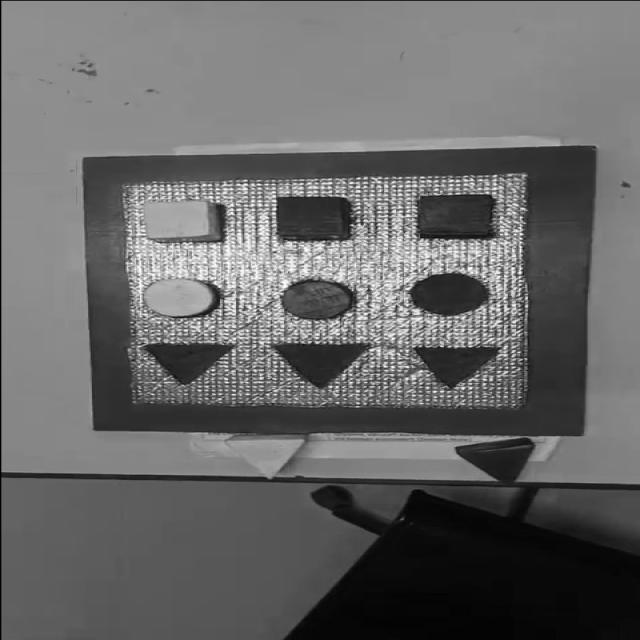bcube: (417, 194, 495, 238)
mtcircle: (407, 272, 490, 316)
mttriangle: (271, 342, 369, 388), (412, 345, 502, 388), (141, 343, 233, 385)
rcircle: (275, 275, 363, 329)
rcube: (275, 196, 351, 241)
rtriangle: (455, 438, 535, 483)
wb: (121, 175, 534, 411)
ycircle: (140, 278, 220, 318)
ycube: (141, 199, 222, 243)
ytriangle: (224, 432, 308, 480)
